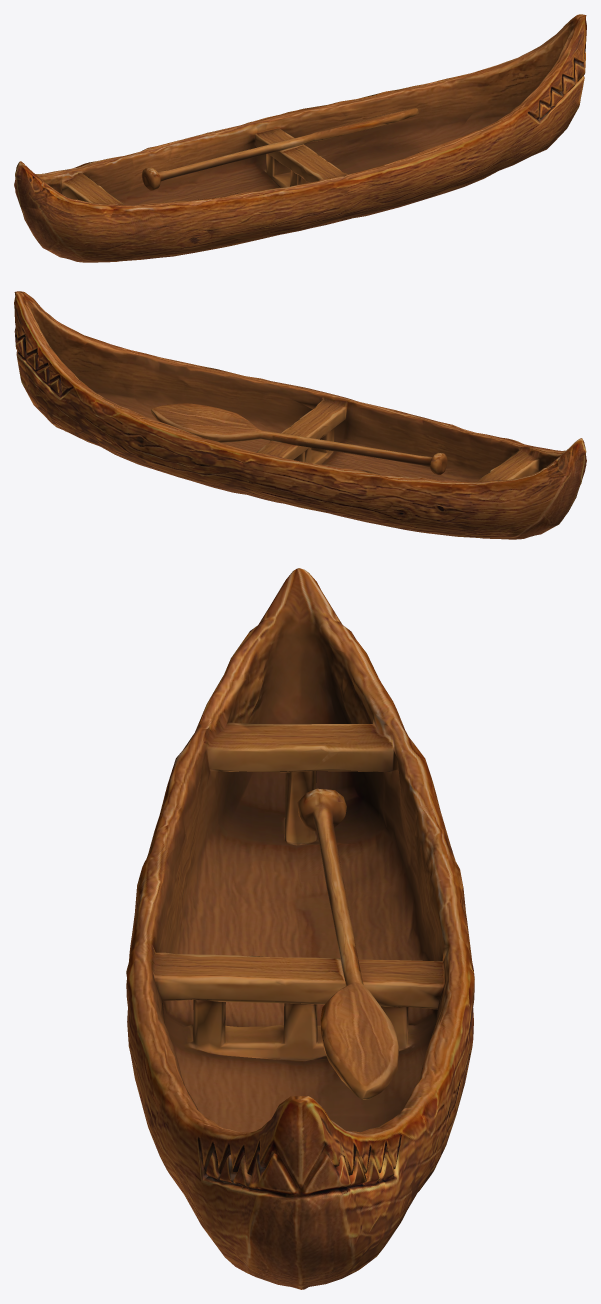
Rendered from boat-pirogue.glb.
The picture shows the model from 3 angles, top to bottom: view 1: azimuth 30°, elevation 25°; view 2: azimuth 150°, elevation 25°; view 3: azimuth 270°, elevation 25°; orthographic projection. The views are drawn at different scales.
Visible parts, largest first — view 1: tripo_node_1ebcde8b-e978-4625-8e09-242187af5232; view 2: tripo_node_1ebcde8b-e978-4625-8e09-242187af5232; view 3: tripo_node_1ebcde8b-e978-4625-8e09-242187af5232.
Boxes of the visible parts, x1,y1,x2,y2 form: tripo_node_1ebcde8b-e978-4625-8e09-242187af5232: [14, 14, 586, 262]; tripo_node_1ebcde8b-e978-4625-8e09-242187af5232: [14, 291, 586, 539]; tripo_node_1ebcde8b-e978-4625-8e09-242187af5232: [126, 568, 474, 1289].
Bounding box in the file's own units: 1 × 0.2107 × 0.264.
1 material, 1 textured.
